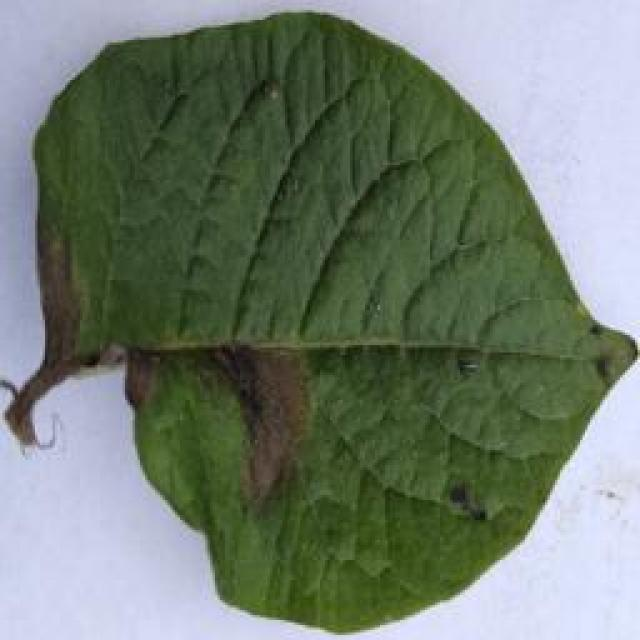Potato_Late_Blight: (5, 12, 632, 639)
